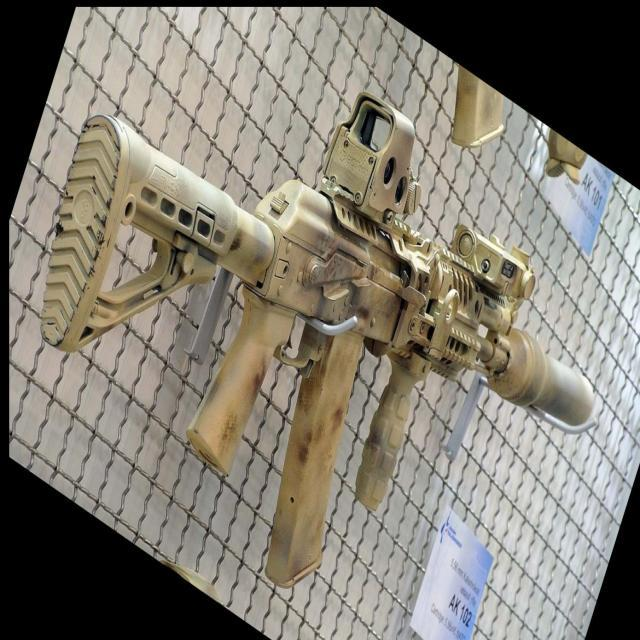weapon: (39, 90, 595, 590)
